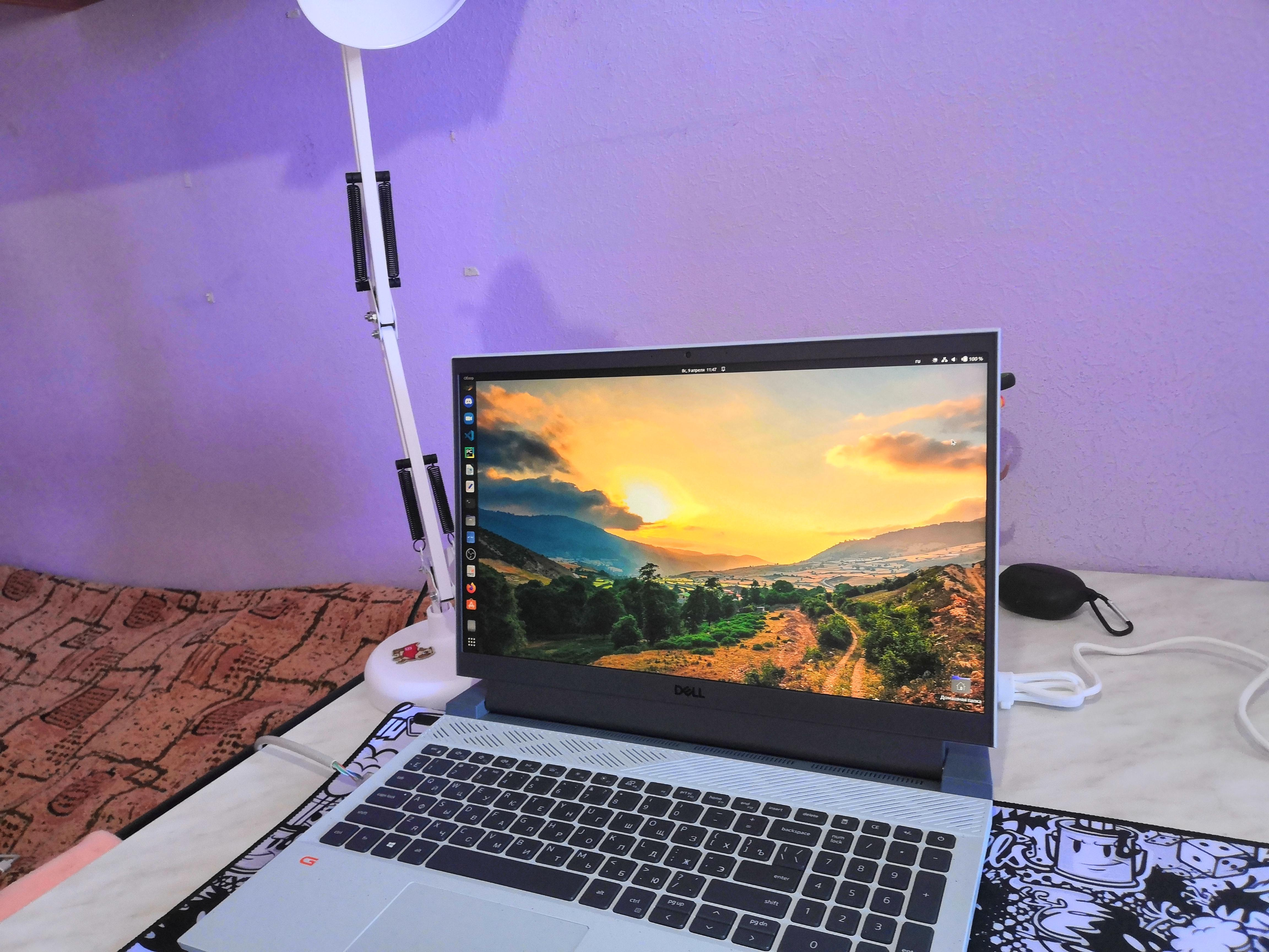monitor: (443, 326, 1001, 747)
